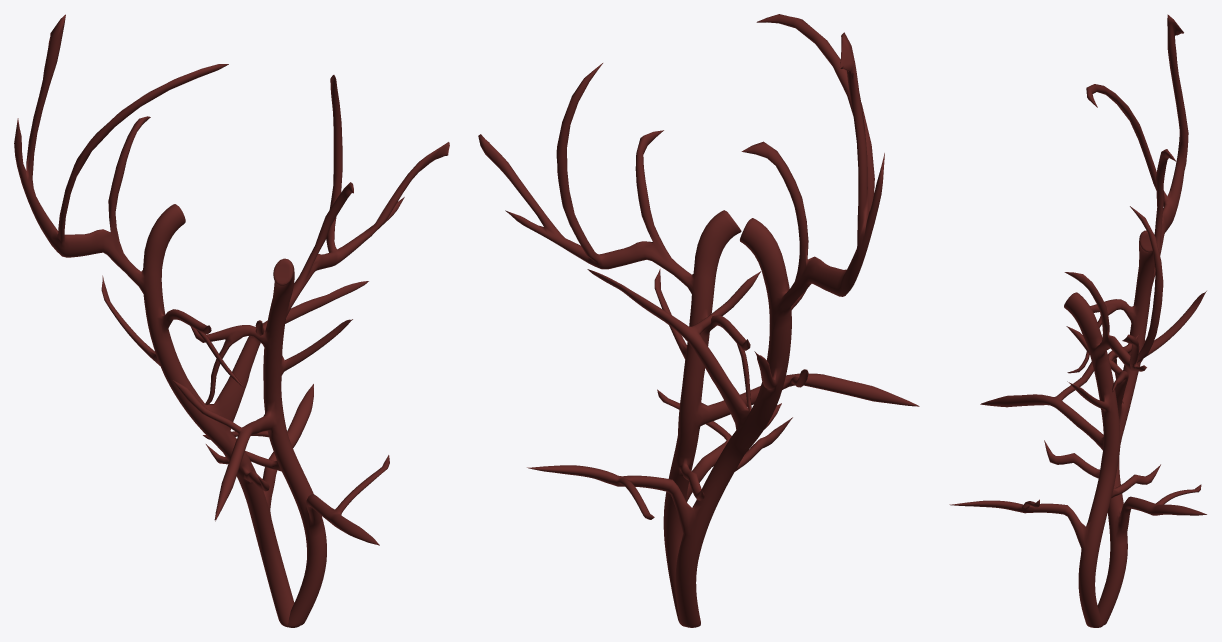
Rendered from Plant_01_moontree_state01.gltf.
3 renders of one model, left to right at view 1: azimuth 30°, elevation 25°; view 2: azimuth 150°, elevation 25°; view 3: azimuth 270°, elevation 25°, orthographic. The views are drawn at different scales.
Visible parts, largest first — view 1: Retopo_Cylinder; view 2: Retopo_Cylinder; view 3: Retopo_Cylinder.
Boxes of the visible parts, left/top/right/bottom form: Retopo_Cylinder: left=14, top=14, right=449, bottom=627; Retopo_Cylinder: left=478, top=14, right=919, bottom=627; Retopo_Cylinder: left=949, top=14, right=1206, bottom=627.
Size of the model in its own units: 7.47 by 11.02 by 4.85.
